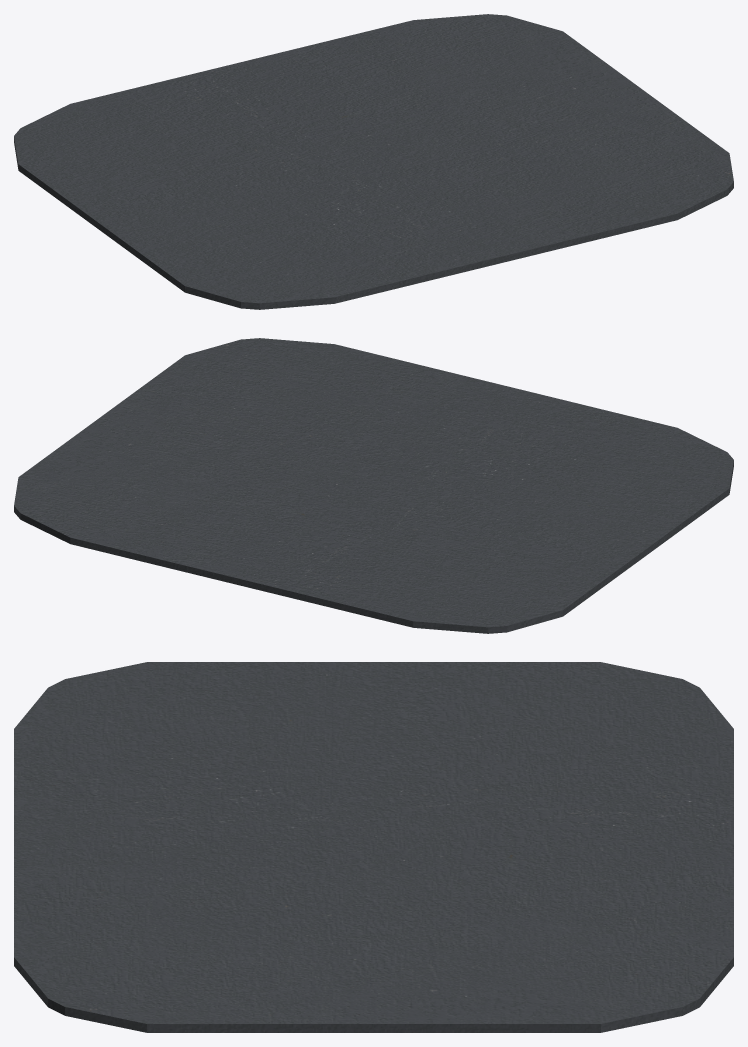
The model's file is ParkingLot.fbx.
3 renders of one model, top to bottom at view 1: azimuth 30°, elevation 25°; view 2: azimuth 150°, elevation 25°; view 3: azimuth 270°, elevation 25°, orthographic. The views are drawn at different scales.
Visible parts, largest first — view 1: ParkingLot; view 2: ParkingLot; view 3: ParkingLot.
Part boxes in pixels (left/top/right/bottom): ParkingLot: left=14, top=14, right=733, bottom=309; ParkingLot: left=14, top=338, right=733, bottom=633; ParkingLot: left=14, top=662, right=733, bottom=1032.
Bounding box in the file's own units: 1844 × 21.2 × 1550.
1 material, 1 textured.
